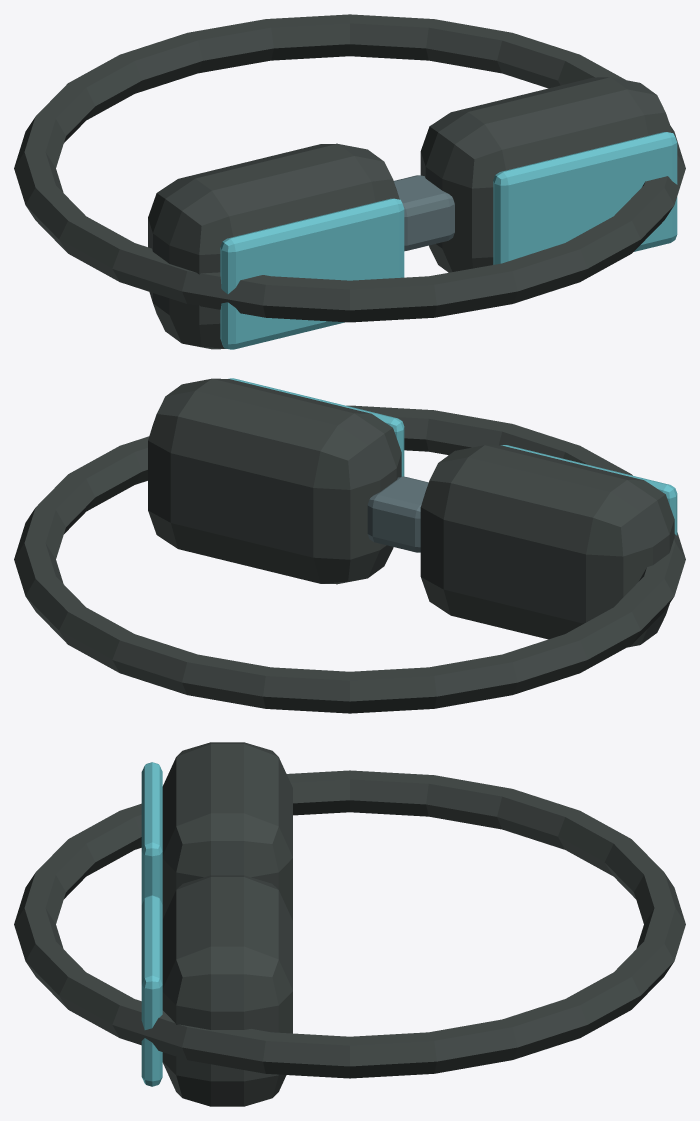
Rendered from goggles.glb.
The picture shows the model from 3 angles, top to bottom: view 1: azimuth 30°, elevation 25°; view 2: azimuth 150°, elevation 25°; view 3: azimuth 270°, elevation 25°; orthographic projection.
Visible parts, largest first — view 1: Goggle strap, Goggle body.001, Goggle body, Goggle lens.001, Goggle lens, Bridge; view 2: Goggle strap, Goggle body.001, Goggle body, Bridge, Goggle lens.001, Goggle lens; view 3: Goggle strap, Goggle body.001, Goggle body, Goggle lens.001, Goggle lens.
Part boxes in pixels (x1,y1,x2,y2): Goggle strap: (14, 14, 685, 322); Goggle body.001: (420, 77, 672, 272); Goggle body: (148, 143, 399, 349); Goggle lens.001: (493, 132, 677, 264); Goggle lens: (220, 198, 404, 349); Bridge: (394, 175, 454, 251); Goggle strap: (14, 405, 685, 713); Goggle body.001: (148, 378, 401, 584); Goggle body: (420, 445, 674, 647); Bridge: (367, 476, 428, 552); Goggle lens.001: (228, 378, 404, 476); Goggle lens: (501, 445, 677, 535); Goggle strap: (14, 770, 685, 1078); Goggle body.001: (162, 875, 292, 1106); Goggle body: (162, 742, 292, 920); Goggle lens.001: (141, 895, 162, 1086); Goggle lens: (141, 762, 162, 904).
Bounding box in the file's own units: 0.384 × 0.1 × 0.384.
